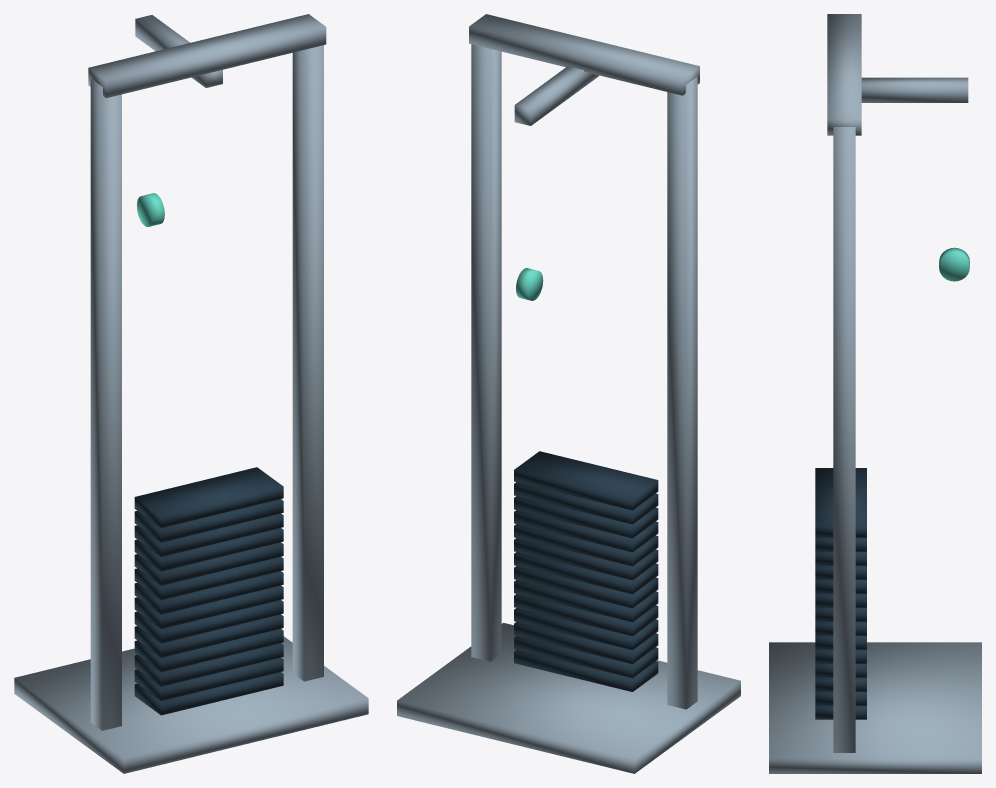
File: cable_station_middle_a.glb
3 views of the same model, side by side, from view 1: azimuth 30°, elevation 25°; view 2: azimuth 150°, elevation 25°; view 3: azimuth 270°, elevation 25° (orthographic). The views are drawn at different scales.
Parts seen in each view (by area): view 1: frame, weight_stack, high_wheel; view 2: frame, weight_stack, high_wheel; view 3: frame, weight_stack, high_wheel.
Boxes of the visible parts, x1,y1,x2,y2 form: frame: (14,14,368,773); weight_stack: (134,467,283,715); high_wheel: (136,193,164,226); frame: (397,14,740,773); weight_stack: (514,451,658,691); high_wheel: (516,268,543,300); frame: (769,14,981,773); weight_stack: (815,468,866,719); high_wheel: (939,247,969,281).
Bounding box in the file's own units: 0.8 × 2.09 × 0.62.
